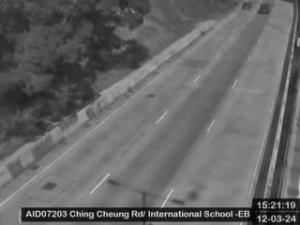vehicle: (256, 2, 270, 14), (242, 2, 252, 10)
